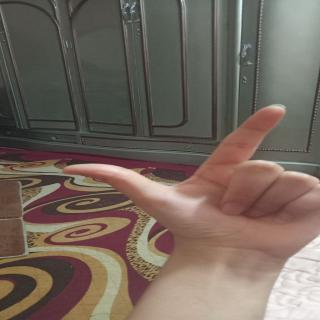LAAM: (48, 101, 320, 238)
